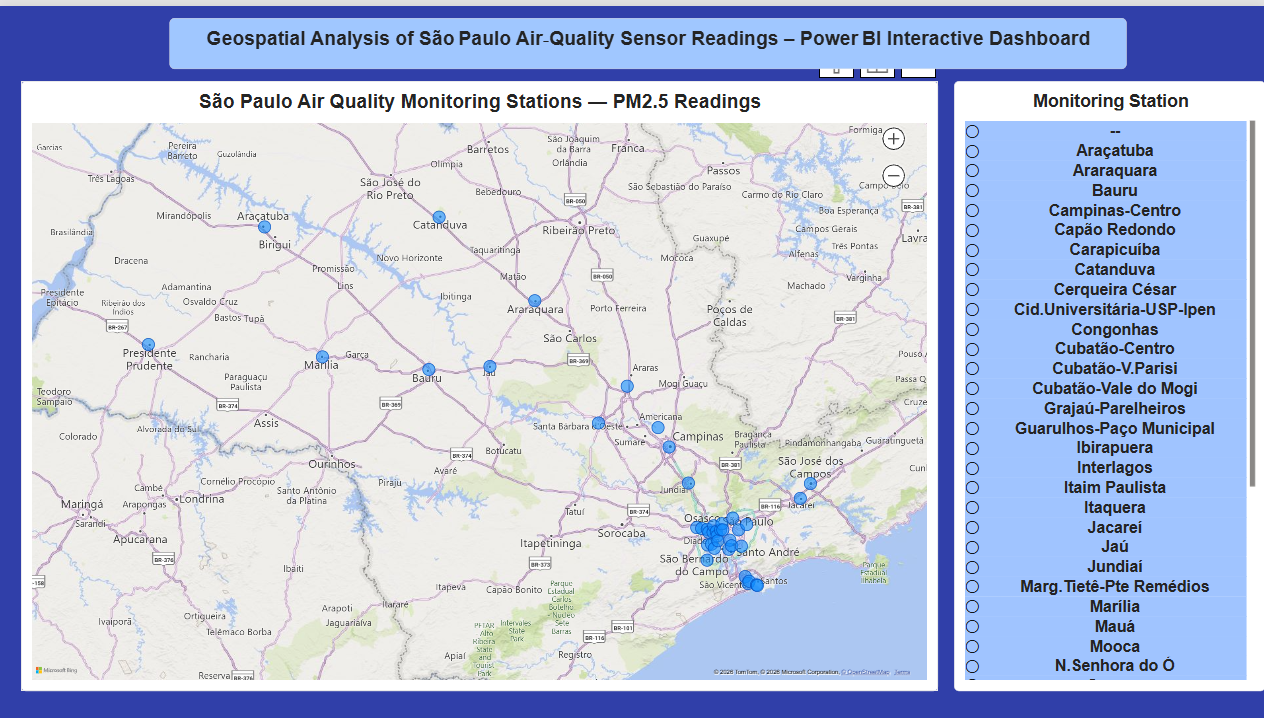

Layout of this report page (visuals, bound fields, positions):
{"tool":"powerbi","page":{"name":"Air Quality Monitoring Map","canvas":[1920,1080],"ordinal":0},"visuals":[{"type":"map","title":"São Paulo Air Quality Monitoring Stations — PM2.5 Readings","fields":{"X":["Station_Coordinates.Longitude"],"Y":["Station_Coordinates.Latitude"]},"box":[31.2,113.4,1389,924.1],"z":0},{"type":"listSlicer","title":"Monitoring Station","fields":{"Values":["Station_Coordinates.Station"]},"box":[1445.7,113.4,473.4,924.1],"z":1},{"type":"shape","title":"Geospatial Analysis of São Paulo Air‑Quality Sensor Readings – Power BI Interactive Dashboard","box":[256.7,18.2,1449.1,77.2],"z":2}]}

Visuals, with their boxes in screenshot pixels (x1, y1, x2, y2):
"São Paulo Air Quality Monitoring Stations — PM2.5 Readings" map: rect(20, 84, 922, 683)
"Monitoring Station" listSlicer: rect(939, 84, 1246, 683)
"Geospatial Analysis of São Paulo Air‑Quality Sensor Readings – Power BI Interactive Dashboard" shape: rect(167, 22, 1107, 72)
